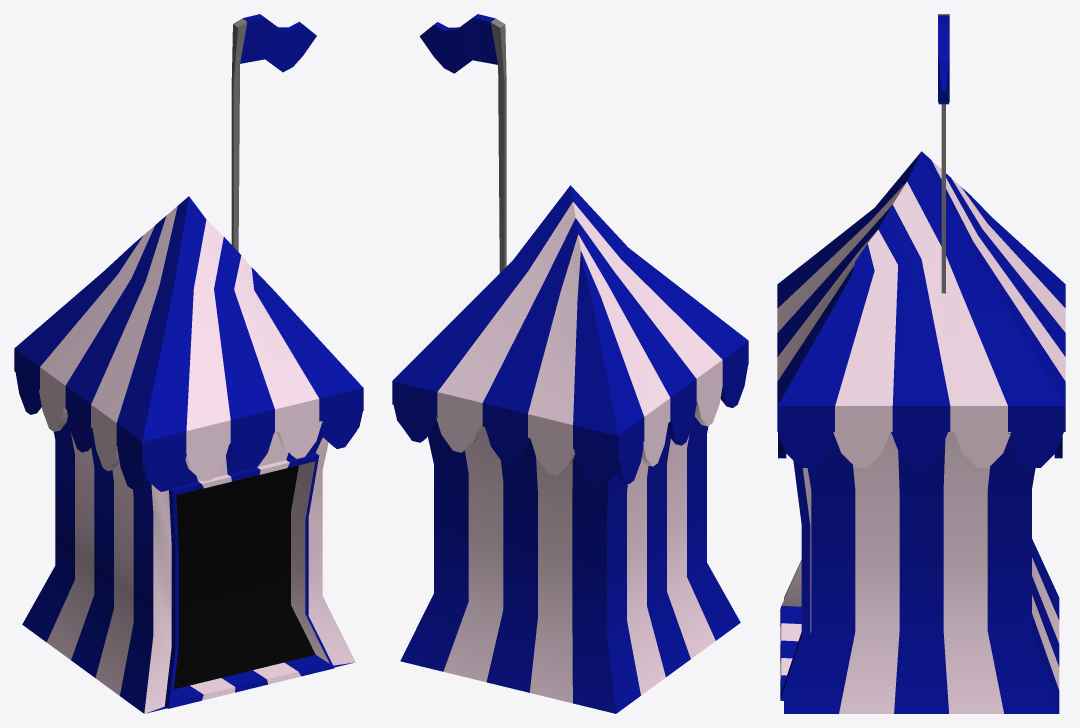
The model's file is BarracaAzul.fbx.
3 renders of one model, left to right at view 1: azimuth 30°, elevation 25°; view 2: azimuth 150°, elevation 25°; view 3: azimuth 270°, elevation 25°, orthographic. The views are drawn at different scales.
Visible parts, largest first — view 1: BarracaAzul; view 2: BarracaAzul; view 3: BarracaAzul.
Part boxes in pixels (x1,y1,x2,y2): BarracaAzul: [14, 14, 363, 713]; BarracaAzul: [392, 14, 748, 713]; BarracaAzul: [777, 14, 1065, 713].
Size of the model in its own units: 265 by 615 by 237.
1 material, 1 textured.
